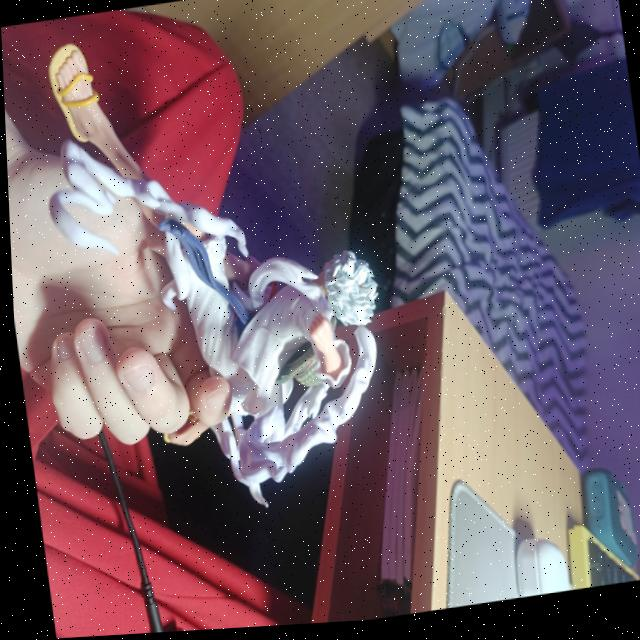luffy: (21, 0, 417, 611)
